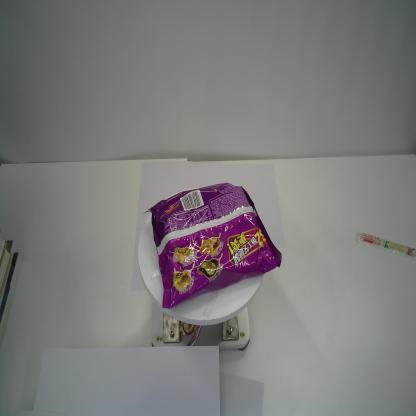Instant Noodles: (142, 182, 283, 309)
